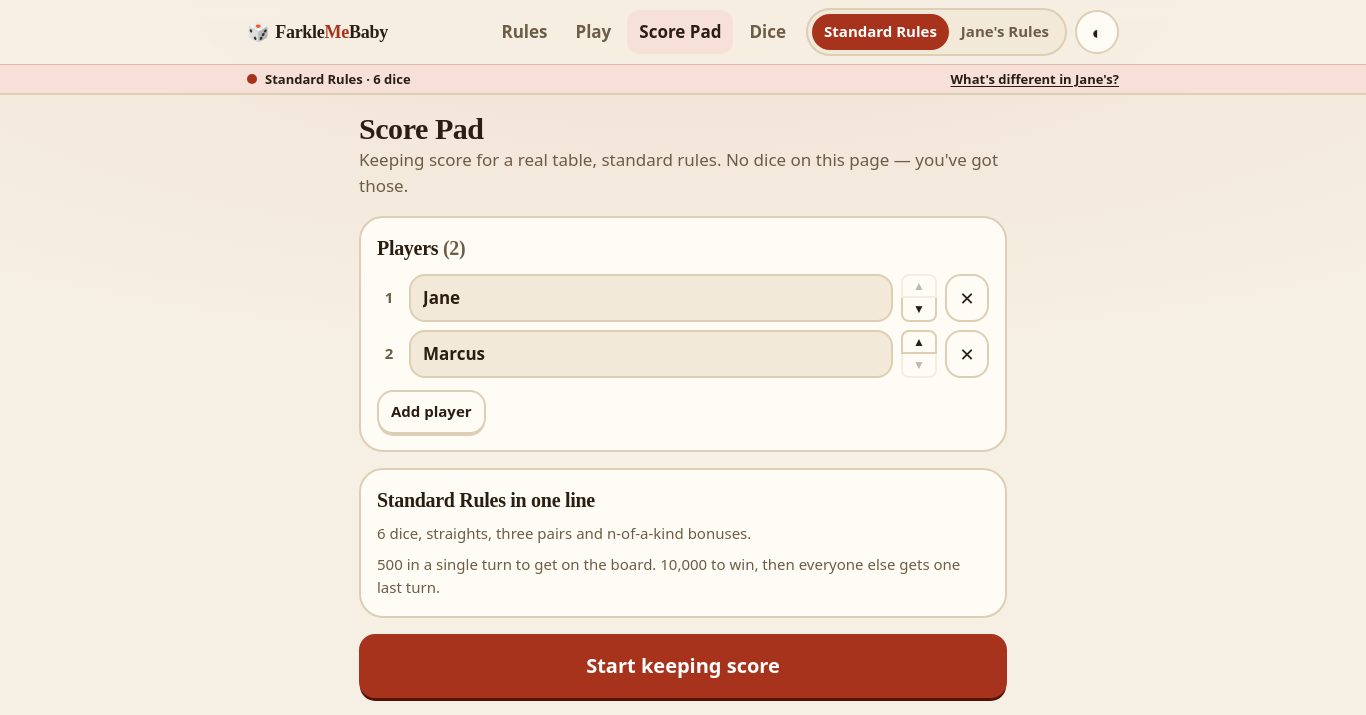
it: /score › runs a turn end to end and updates the standings immediately
Click the button "Start keeping score" at (683, 666), box [359,634,1007,698]
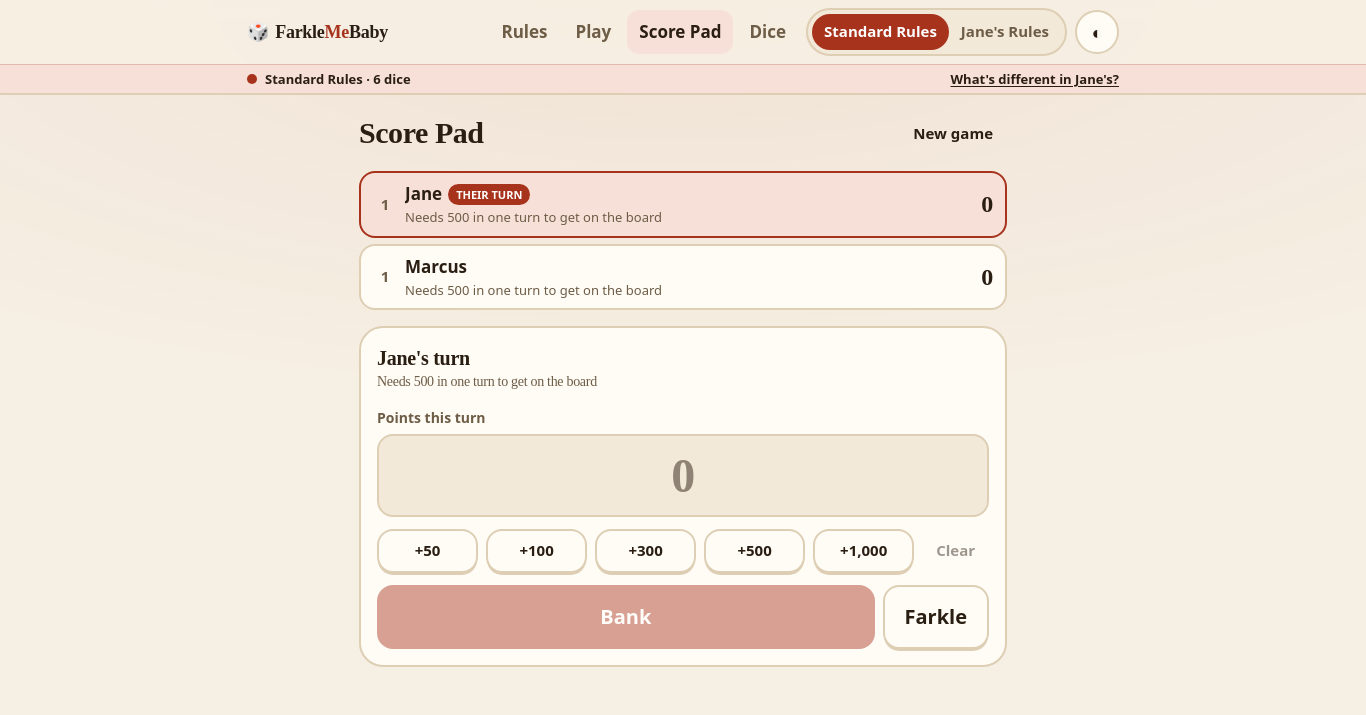
Click the button "+500" at (755, 551), box [704,529,805,573]
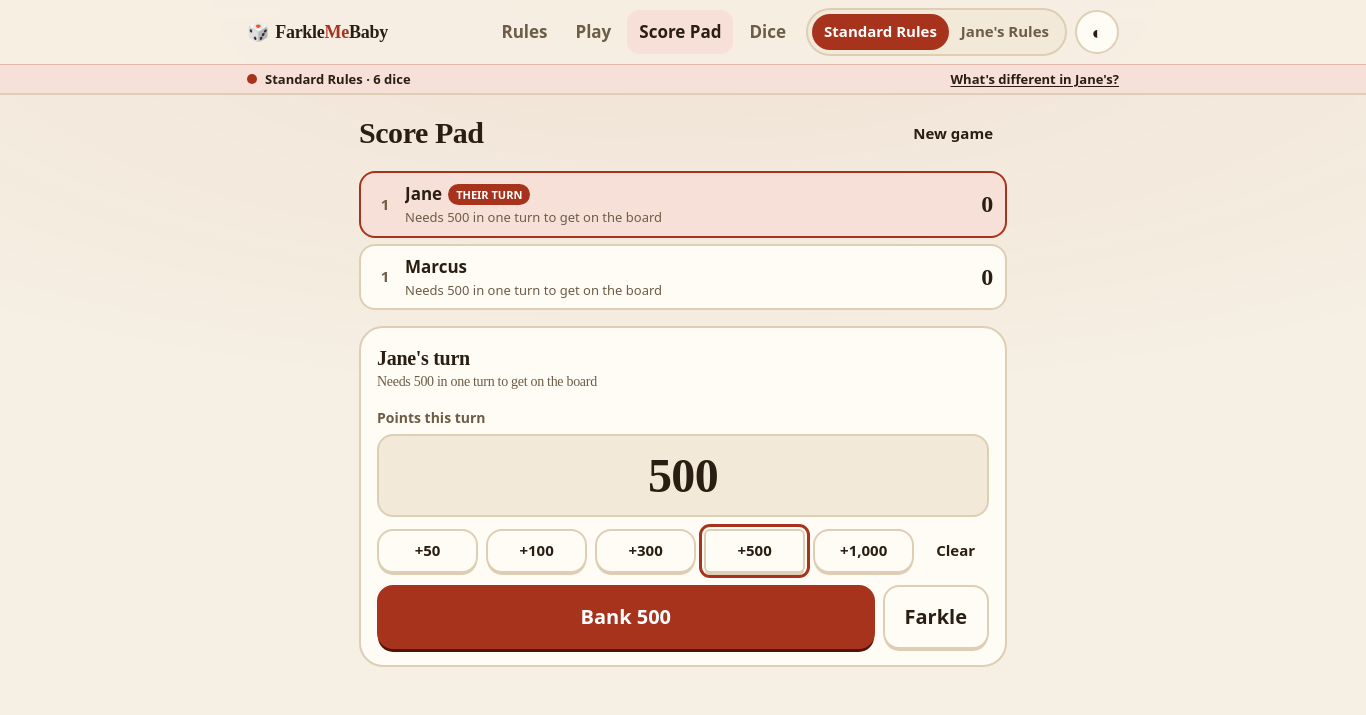
Click the button "Bank 500" at (626, 617), box [377,585,874,649]
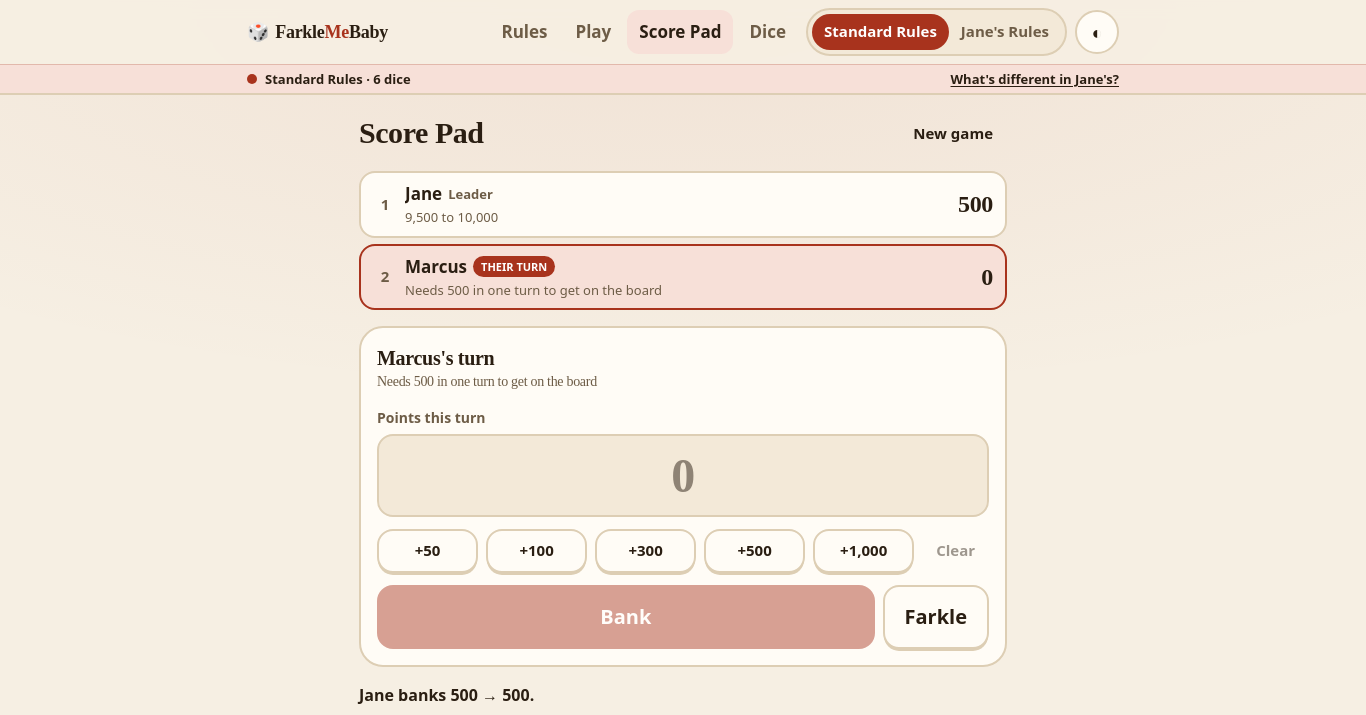
Expected: the text "Jane banks 500 → 500." is shown, [359,684,534,706]
Expected: the text "500" is shown, [958,188,993,220]
